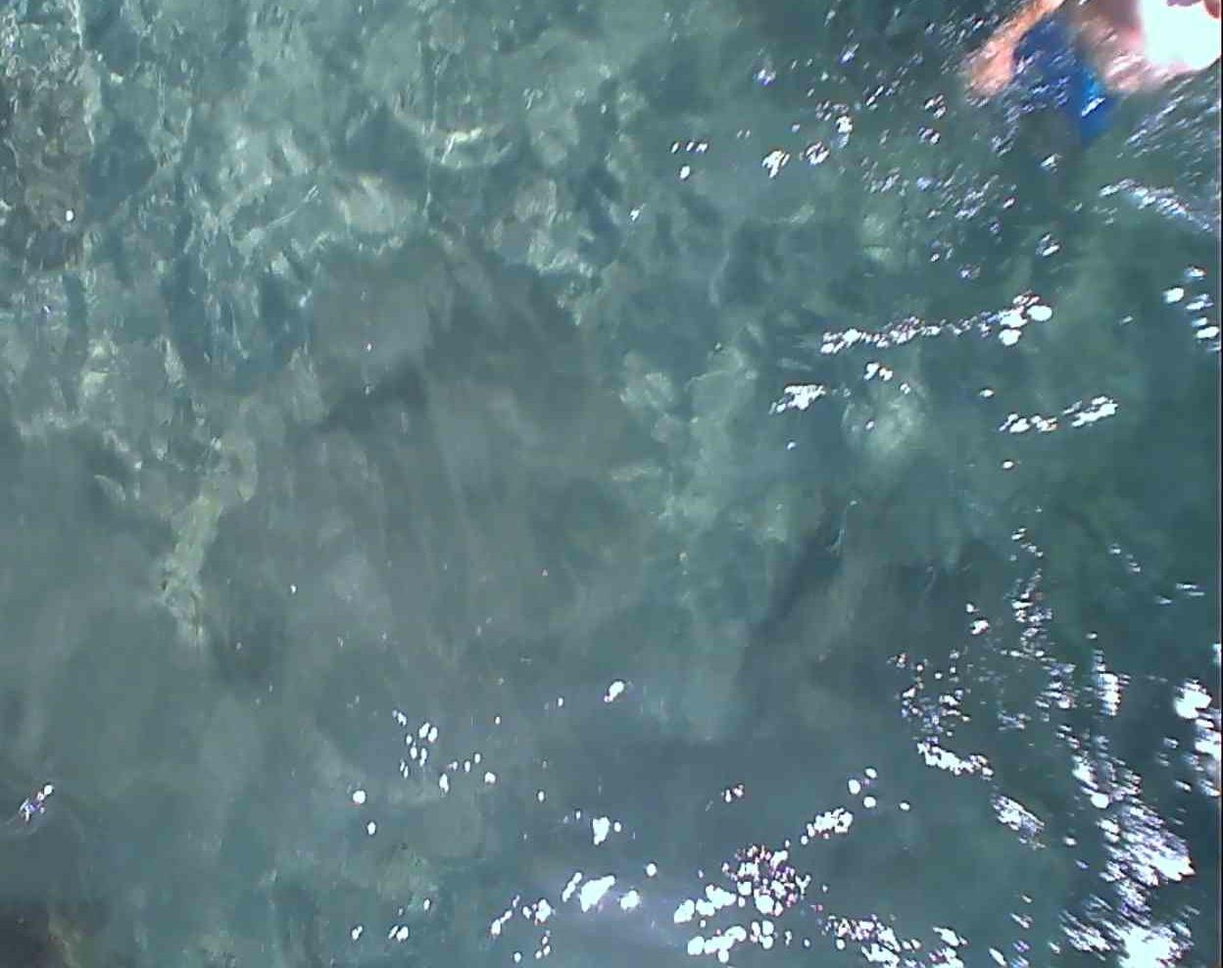swimmer: (989, 0, 1208, 181)
